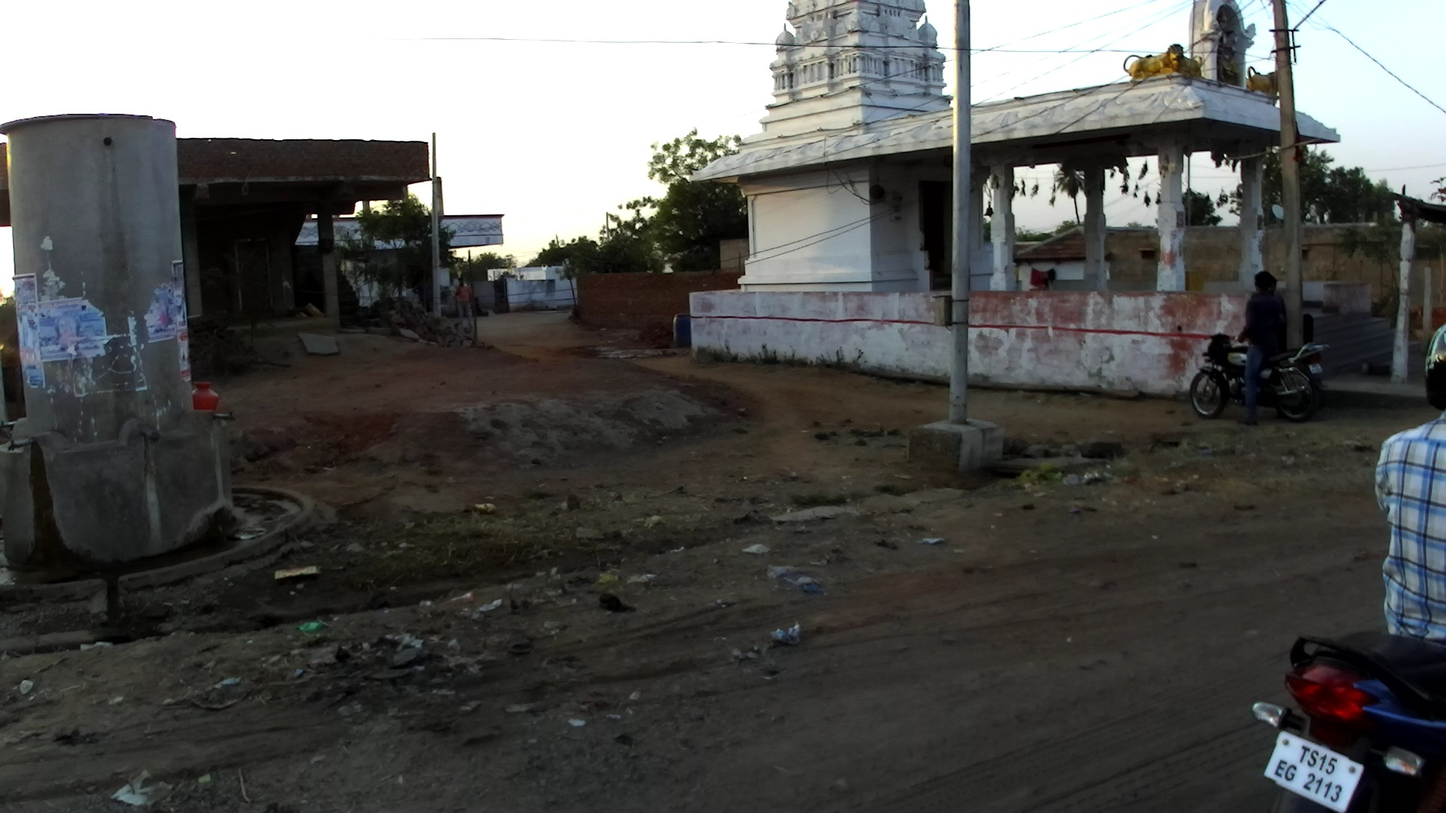motorcycle: (1250, 629, 1446, 813), (1188, 331, 1329, 422)
person: (452, 276, 474, 331)
rider: (1374, 330, 1446, 647), (1234, 269, 1288, 425)
